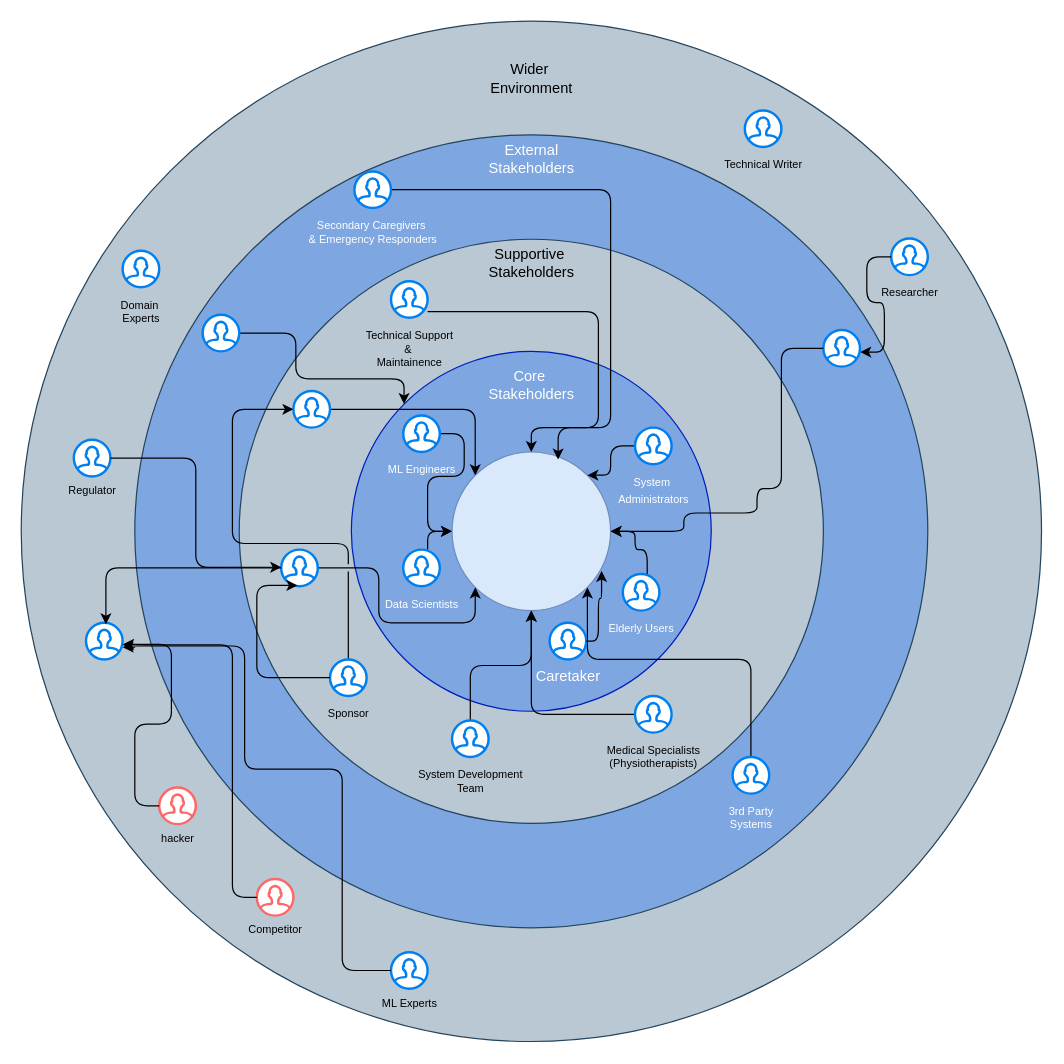
This 1064x1064 diagram has some shape labels left out. Here are the shapes that lost their labels. From the top down, the centre of each, then its label:
At pixel 220 332: "Community Health Organizations".
At pixel 841 347: "Research Institutions".
At pixel 311 408: "Medical Device & Sensor Suppliers".
At pixel 531 531: "Fall Detection Application".
At pixel 298 567: "Project Owner".
At pixel 103 640: "Product Developer".
